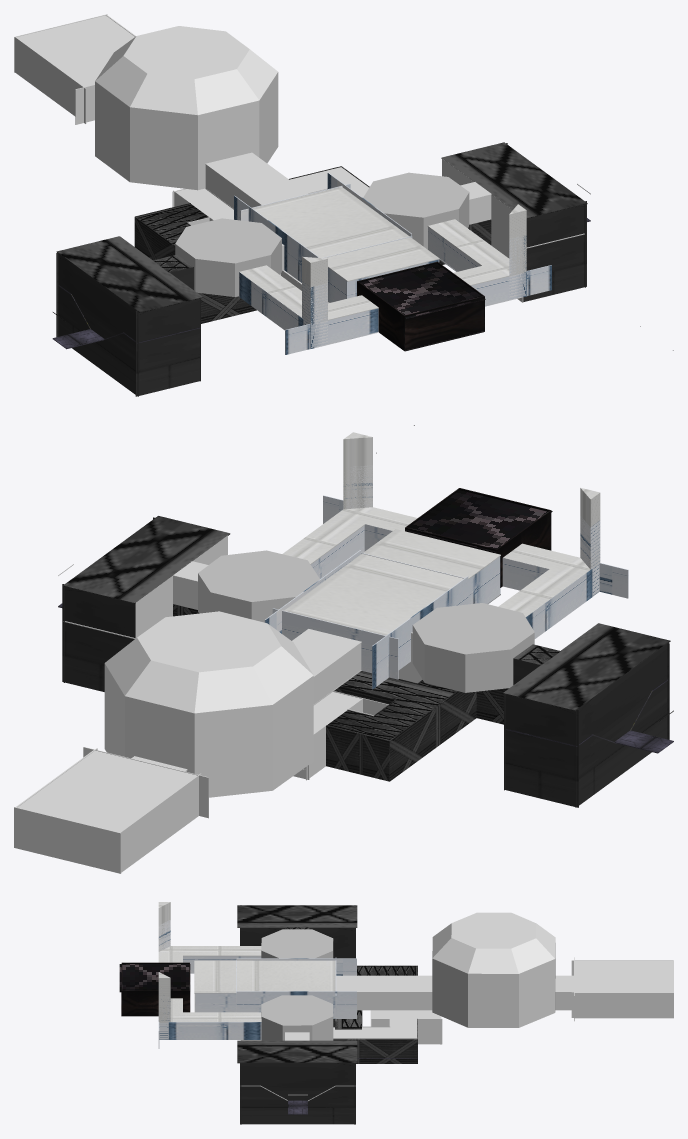
The model's file is research_raw_model2.fbx.
3 views of the same model, one above another, from view 1: azimuth 30°, elevation 25°; view 2: azimuth 150°, elevation 25°; view 3: azimuth 270°, elevation 25° (orthographic). The views are drawn at different scales.
Parts seen in each view (by area): view 1: Cylinder.062, Cube.457, Cube.463, Cylinder, Cube.458, Cube.455, Cube.471, Cylinder.061, Cube.501, Cube.468, Cube.160, Cube.181 (+23 smaller); view 2: Cylinder.062, Cylinder, Cube.457, Cube.501, Cube.463, Cube.456, Cube.471, Cube.455, Cylinder.061, Cube.470, Cube.492, Cube.160 (+26 smaller); view 3: Cylinder.062, Cube.469, Cube.501, Cube.463, Cylinder.061, Cube.471, Cube.455, Cube.506, Cylinder, Cube.160, Cube.181, Cube.358 (+18 smaller).
Part boxes in pixels (<box>): Cylinder.062: <box>95,26,278,190</box>; Cube.457: <box>58,253,138,396</box>; Cube.463: <box>252,186,409,257</box>; Cylinder: <box>175,218,281,296</box>; Cube.458: <box>135,298,199,396</box>; Cube.455: <box>56,236,202,313</box>; Cube.471: <box>441,142,587,218</box>; Cylinder.061: <box>363,172,469,249</box>; Cube.501: <box>16,15,135,86</box>; Cube.468: <box>523,201,586,301</box>; Cube.160: <box>360,263,485,318</box>; Cube.181: <box>239,256,378,324</box>; Cylinder.062: <box>104,611,313,797</box>; Cylinder: <box>412,603,534,692</box>; Cube.457: <box>575,642,668,807</box>; Cube.501: <box>16,750,197,832</box>; Cube.463: <box>284,554,463,635</box>; Cube.456: <box>505,694,578,807</box>; Cube.471: <box>63,516,230,603</box>; Cube.455: <box>503,623,670,711</box>; Cylinder.061: <box>198,550,319,622</box>; Cube.470: <box>62,584,135,691</box>; Cube.492: <box>282,432,417,564</box>; Cube.160: <box>405,490,552,552</box>; Cylinder.062: <box>432,912,555,1027</box>; Cube.469: <box>240,1062,355,1124</box>; Cube.501: <box>574,961,673,993</box>; Cube.463: <box>237,960,335,991</box>; Cylinder.061: <box>261,995,333,1040</box>; Cube.471: <box>237,1040,357,1063</box>; Cube.455: <box>237,905,357,927</box>; Cube.506: <box>571,992,673,1017</box>; Cylinder: <box>261,929,333,958</box>; Cube.160: <box>119,964,190,992</box>; Cube.181: <box>158,902,261,962</box>; Cube.358: <box>336,975,432,992</box>.
Bounding box in the file's own units: 1217 × 355 × 1842.
